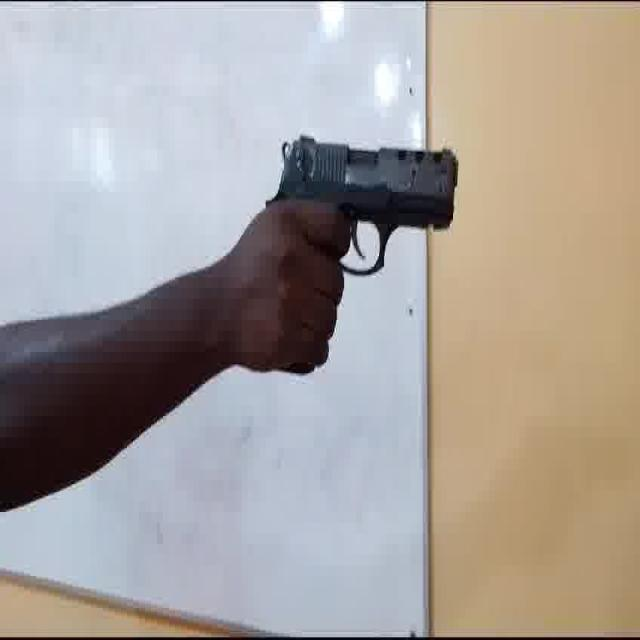weapon: (260, 132, 459, 284)
